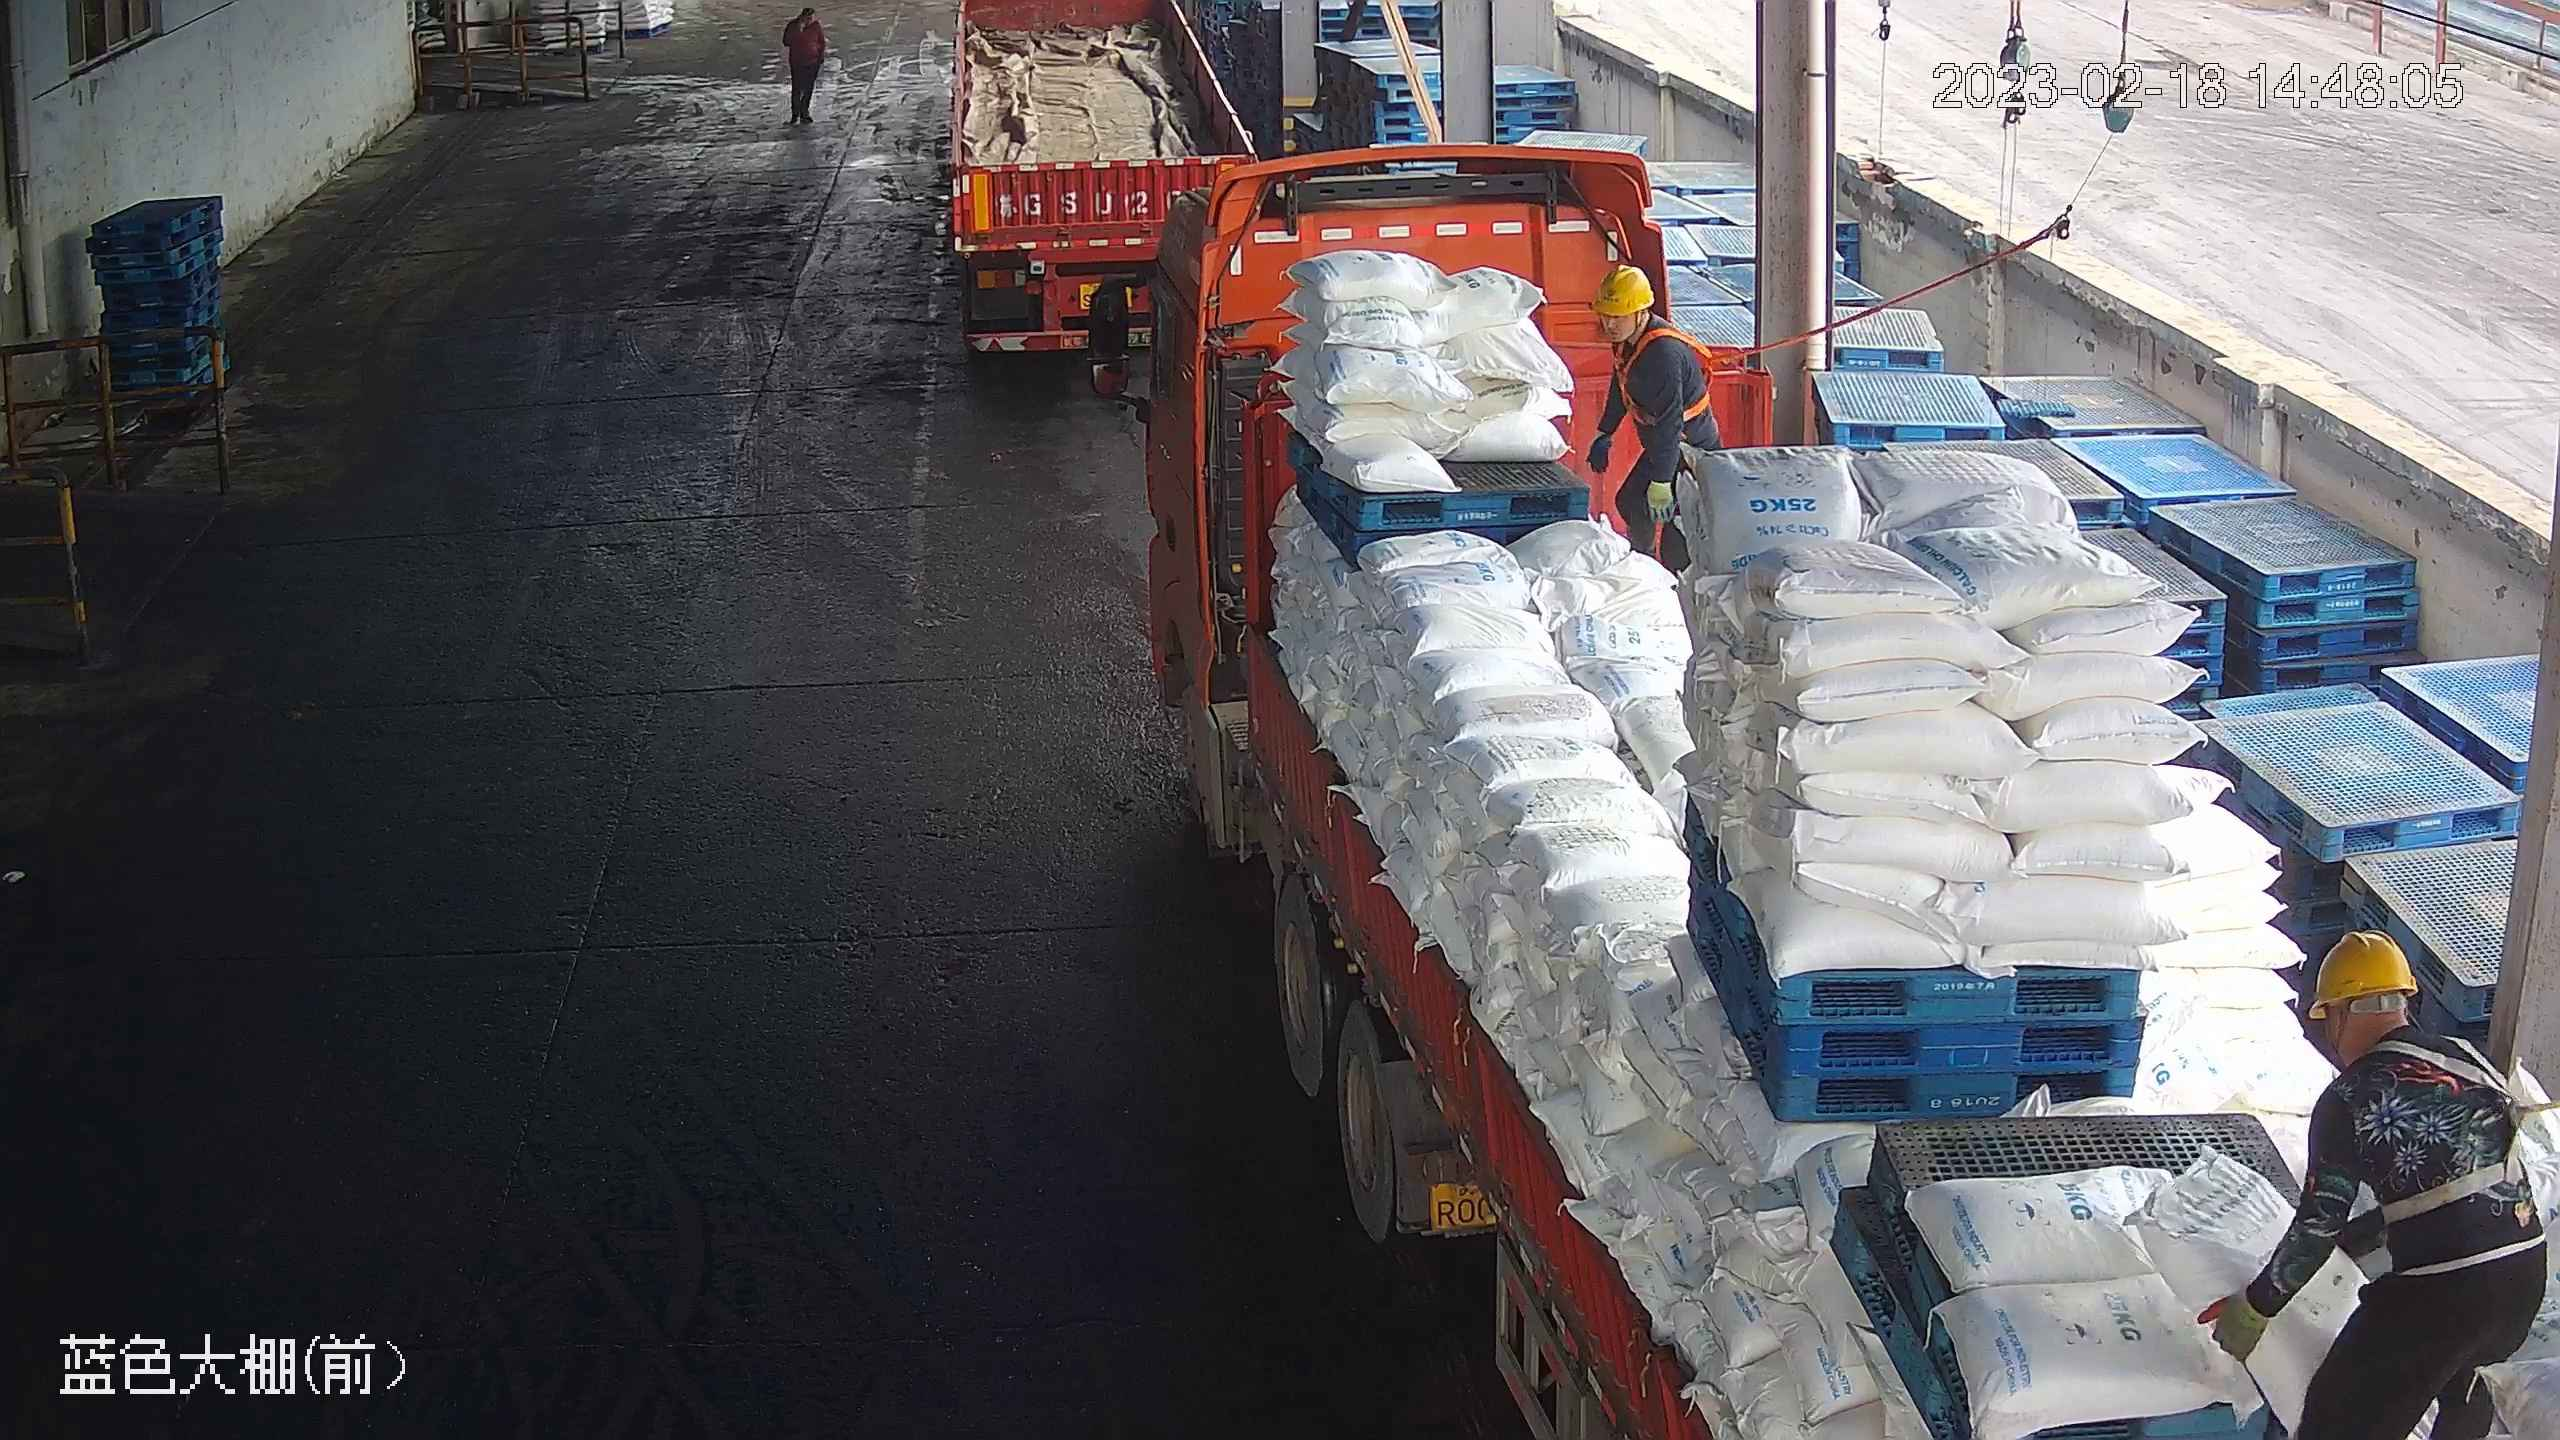belt: (2361, 1042, 2540, 1226), (1618, 323, 1726, 423)
head: (2291, 929, 2516, 1141), (1589, 261, 1705, 380)
helmet: (2308, 927, 2423, 1015), (1588, 259, 1656, 316)
people: (2195, 930, 2553, 1439), (1582, 262, 1724, 579)
truck: (1084, 144, 2552, 1439), (945, 1, 1260, 357)
